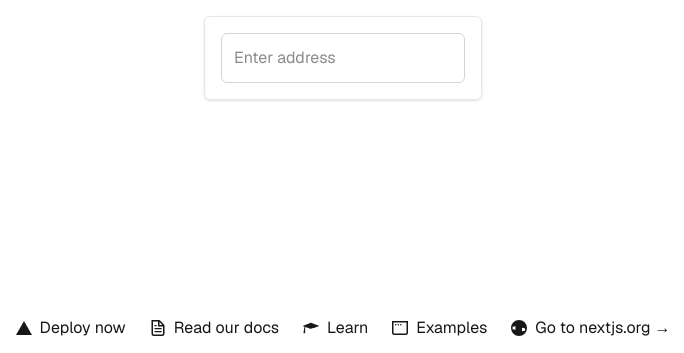
Test case: Enter Address & Receive Instant Estimate › clears suggestions when input is empty
This screenshot has width=684, height=353.
Type "2323 E Highland Ave" into the field with placeholder "Enter address" at (343, 58), box [221,33,465,83]
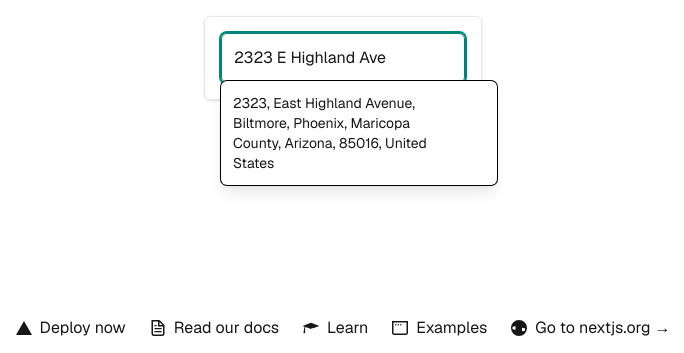
Now the list shows "2323, East Highland Avenue, Biltmore, Phoenix, Maricopa County, Arizona, 85016, United States", box [221,81,497,185]
Clear the field with placeholder "Enter address" at (343, 58), box [221,33,465,83]
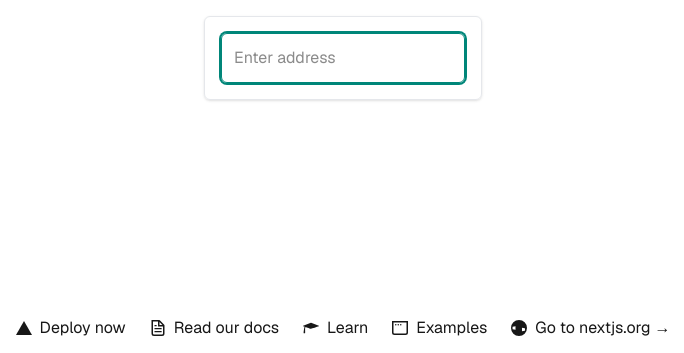
Now the list is gone
